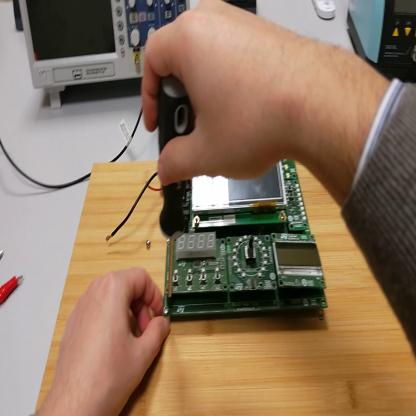hand: (142, 2, 288, 186), (39, 268, 170, 414)
low voltage board: (105, 163, 327, 319)
oscilloscope: (19, 4, 205, 111)
screwdriver-: (155, 77, 193, 311)
socket: (14, 1, 24, 34)
welder station: (348, 4, 415, 86)
working area: (34, 161, 416, 416)
